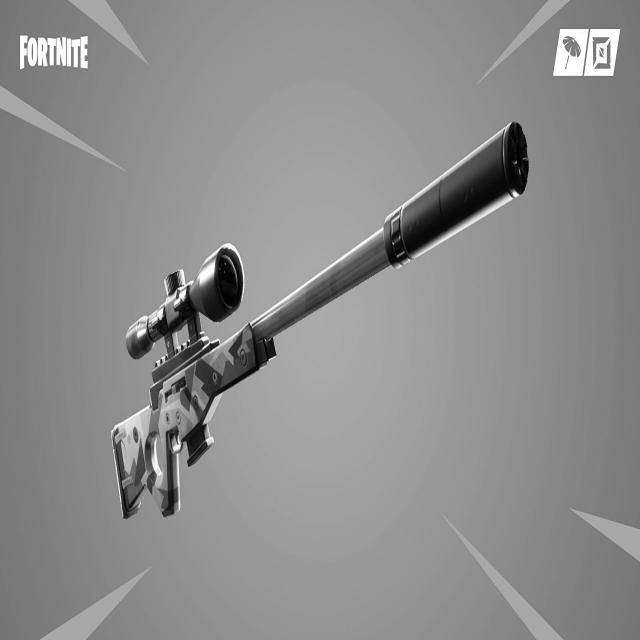Sniper: (66, 110, 544, 587)
